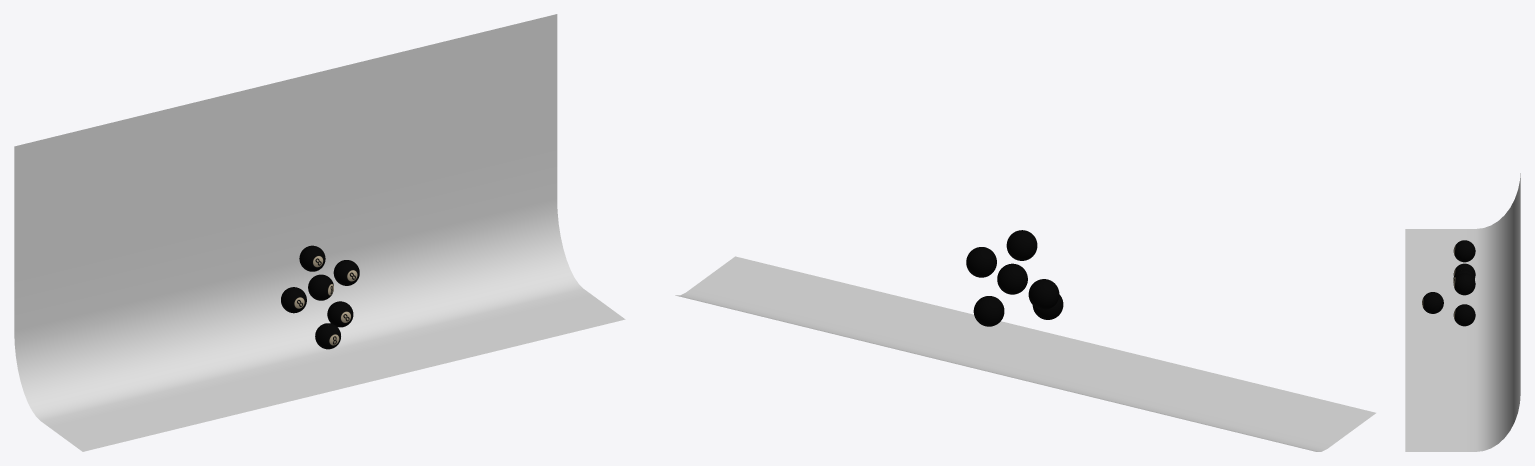
File: ball-scene.glb
3 renders of one model, left to right at view 1: azimuth 30°, elevation 25°; view 2: azimuth 150°, elevation 25°; view 3: azimuth 270°, elevation 25°, orthographic. The views are drawn at different scales.
Parts seen in each view (by area): view 1: Plane; view 2: Plane, Object_2.003, Object_2.005, Object_2.002, Object_2.001, Object_2.004; view 3: Plane, Object_2.001, Object_2.004, Object_2.005, Object_2, Object_2.003.
Part boxes in pixels (bbox=[...]): Plane: bbox=[14, 14, 625, 451]; Plane: bbox=[675, 256, 1375, 451]; Object_2.003: bbox=[1028, 279, 1059, 309]; Object_2.005: bbox=[1006, 230, 1037, 260]; Object_2.002: bbox=[997, 263, 1027, 294]; Object_2.001: bbox=[973, 296, 1004, 326]; Object_2.004: bbox=[966, 247, 996, 277]; Plane: bbox=[1405, 173, 1520, 451]; Object_2.001: bbox=[1453, 304, 1475, 326]; Object_2.004: bbox=[1453, 273, 1475, 295]; Object_2.005: bbox=[1453, 240, 1475, 262]; Object_2: bbox=[1422, 292, 1443, 313]; Object_2.003: bbox=[1453, 263, 1475, 277].
Bounding box in the file's own units: 19.89 × 8.94 × 4.35.
1 material, 1 textured.
